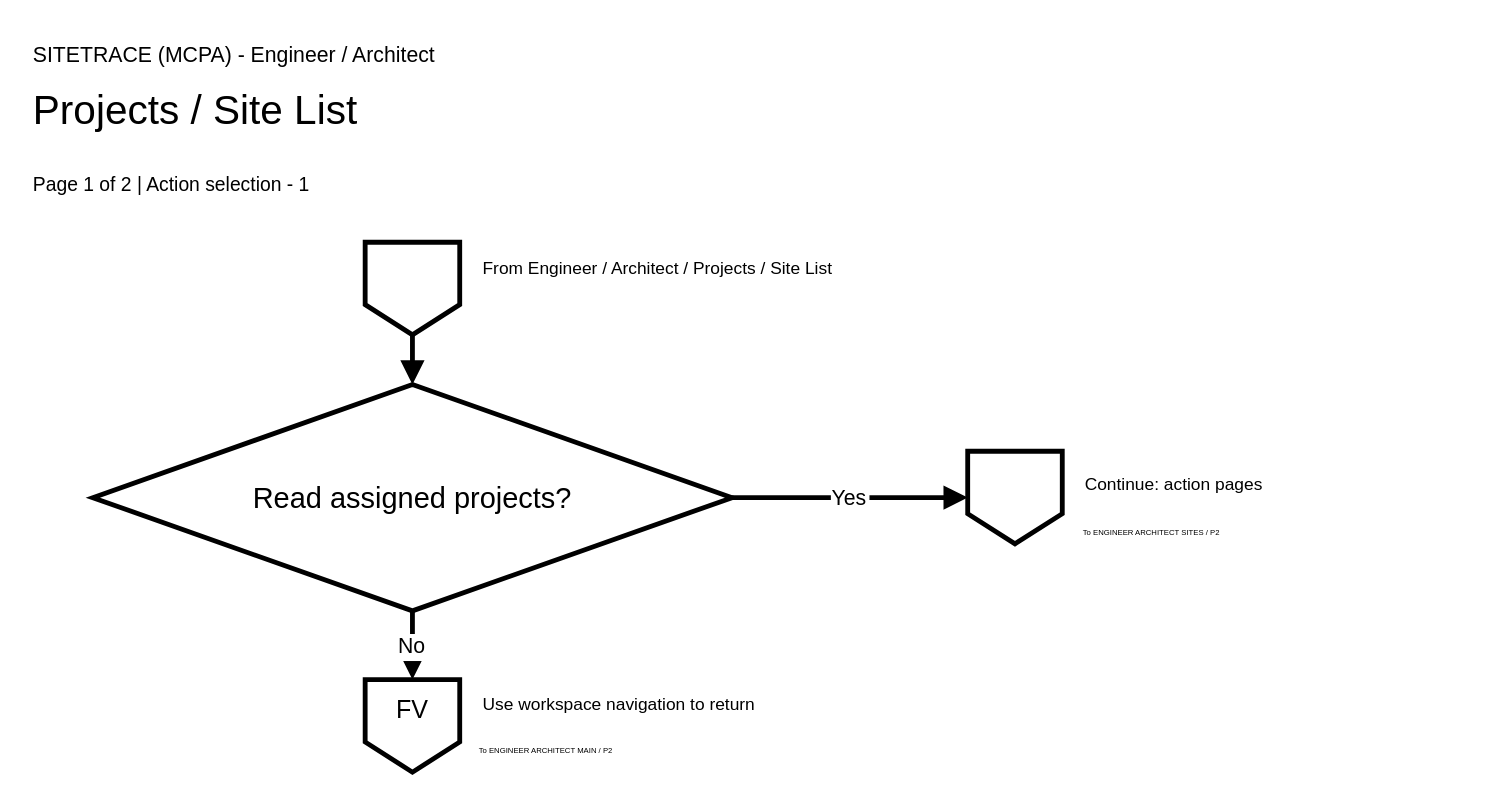
Some shapes in this 1507 by 807 pixel diagram are drawn without their labels. The centre of each missing label's shape, as x and y in pixels:
"GF" belongs at point 411,287.
"KX" belongs at point 1014,496.
